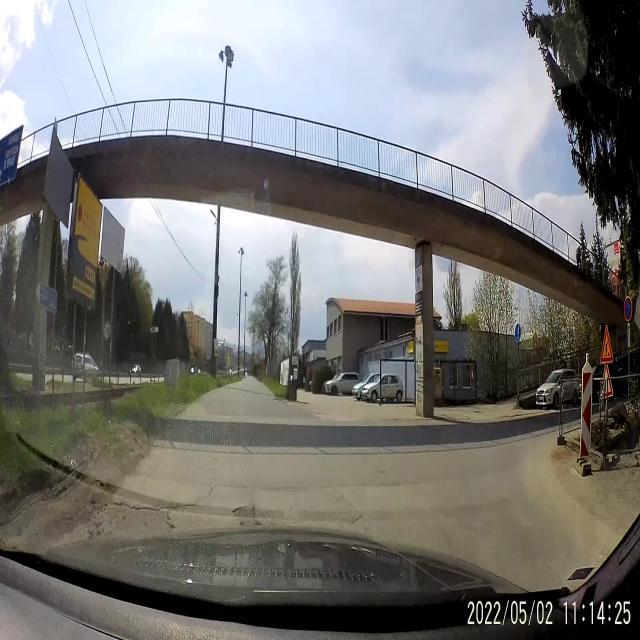Pothole: (76, 488, 175, 540), (227, 496, 270, 530)
